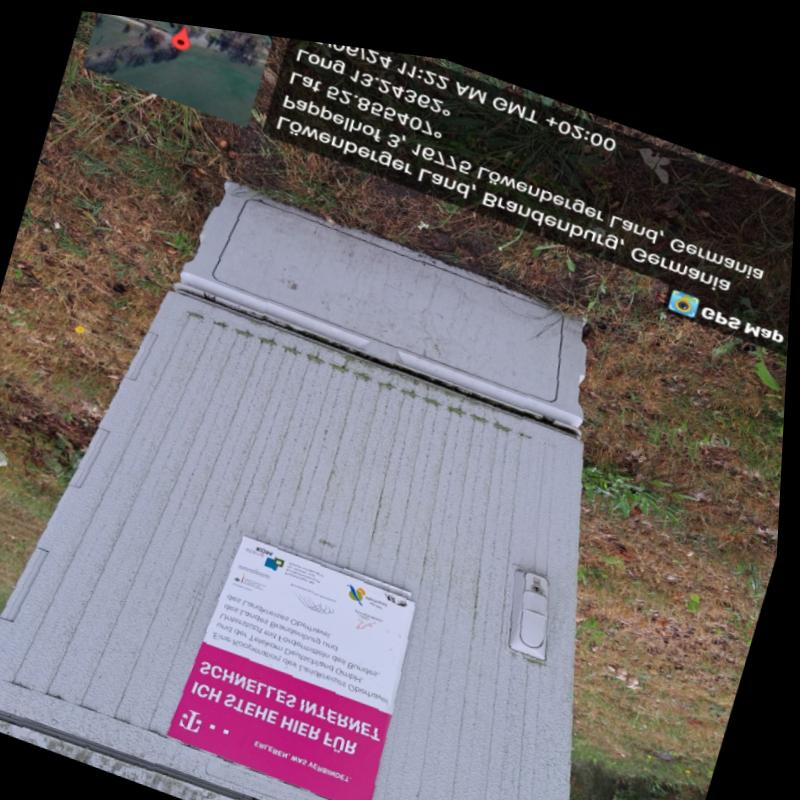NT-Gehause: (0, 169, 598, 800)
Steaker: (163, 508, 437, 800)
